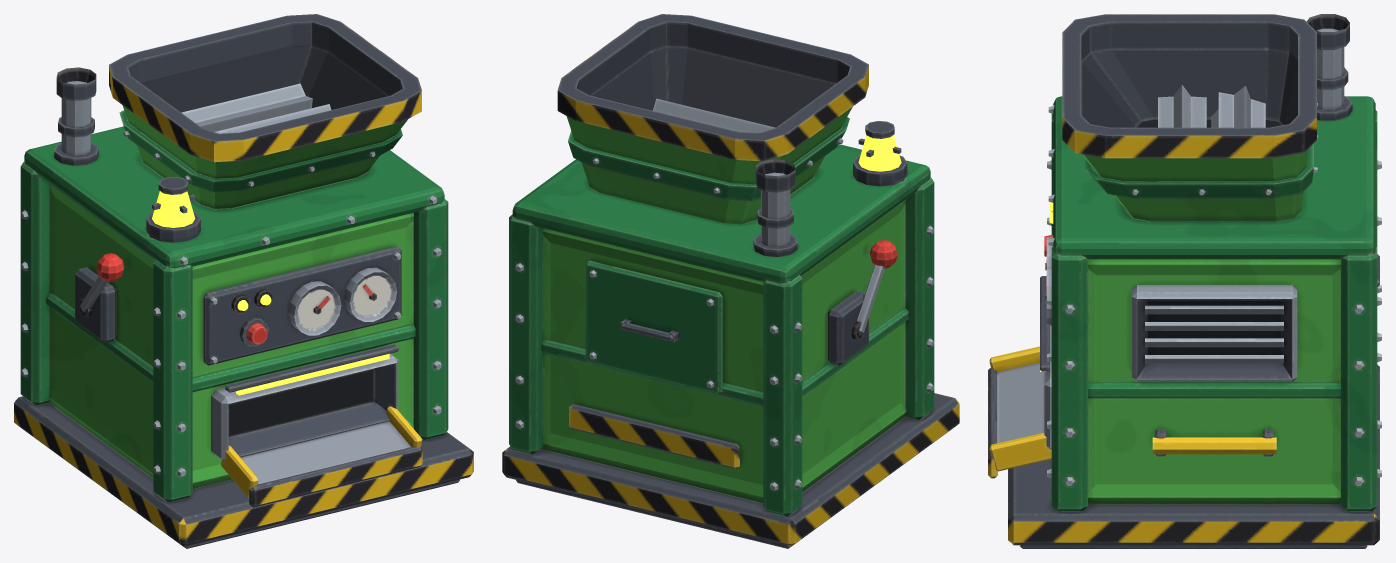
Rendered from Recycler_Industrial.fbx.
3 renders of one model, left to right at view 1: azimuth 30°, elevation 25°; view 2: azimuth 150°, elevation 25°; view 3: azimuth 270°, elevation 25°, orthographic. The views are drawn at different scales.
Visible parts, largest first — view 1: Recycler_Industrial_Body, Recycler_Industrial_Glow; view 2: Recycler_Industrial_Body, Recycler_Industrial_Glow; view 3: Recycler_Industrial_Body.
Part boxes in pixels (x1,y1,x2,y2): Recycler_Industrial_Body: [14, 14, 473, 548]; Recycler_Industrial_Glow: [152, 191, 389, 395]; Recycler_Industrial_Body: [502, 14, 959, 548]; Recycler_Industrial_Glow: [858, 135, 901, 171]; Recycler_Industrial_Body: [988, 14, 1381, 548].
Bounding box in the file's own units: 4.62 × 5.5 × 4.77.
2 materials, 1 textured.
